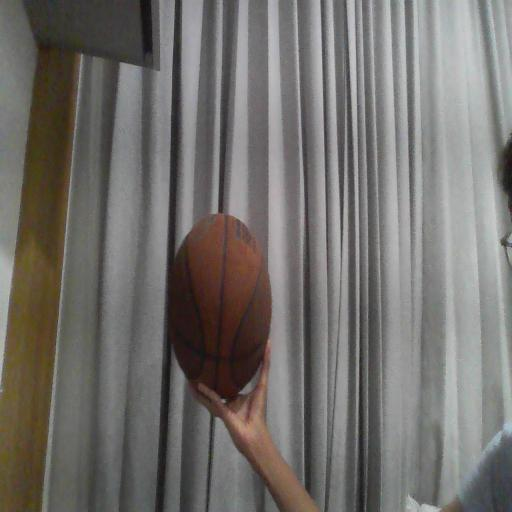basketball: (168, 215, 271, 398)
